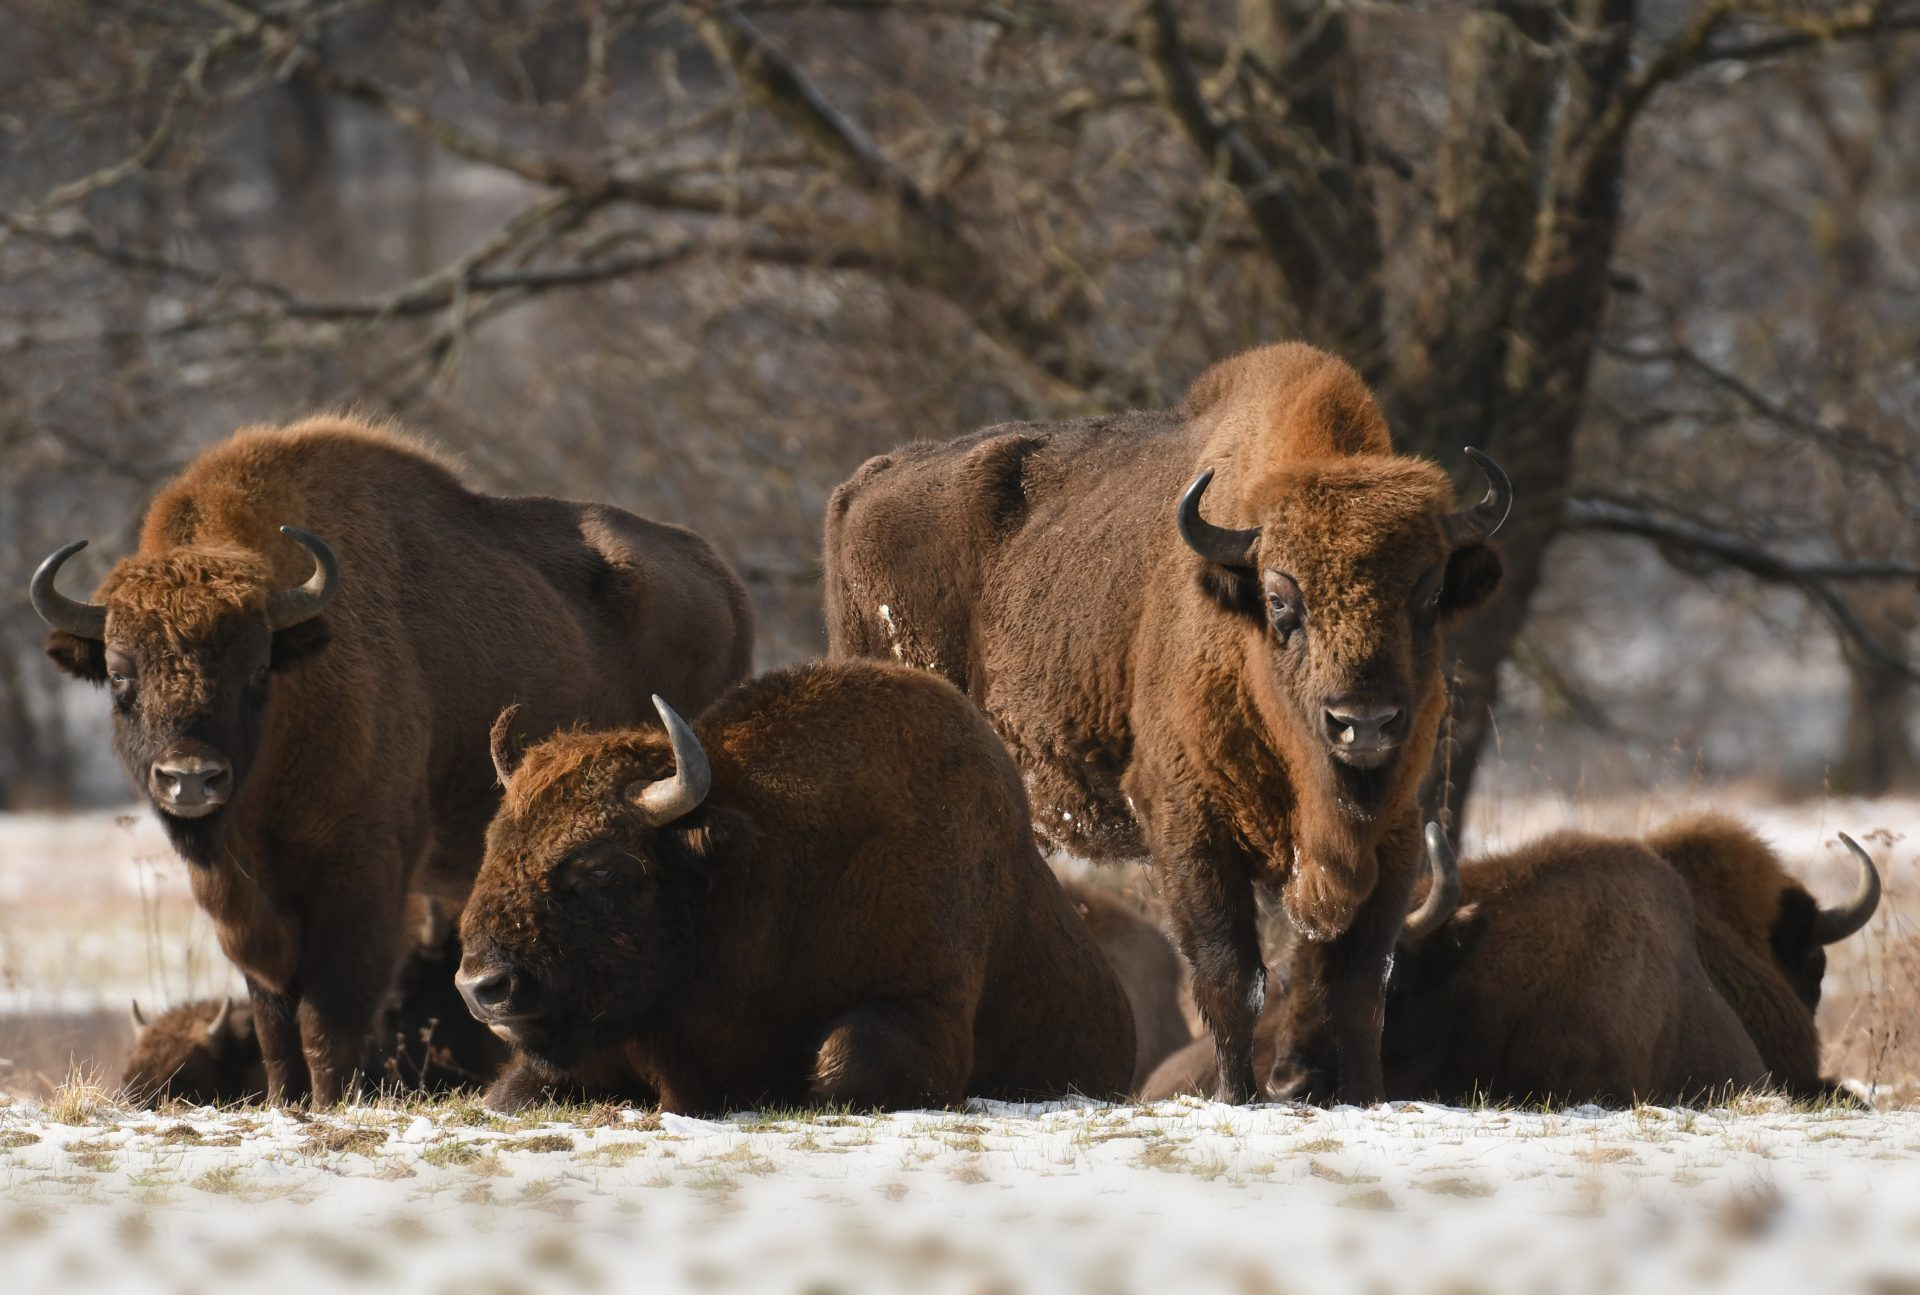zubr: (26, 370, 808, 1091), (890, 234, 1565, 1070), (410, 645, 1123, 1145), (1390, 775, 1916, 1191)
